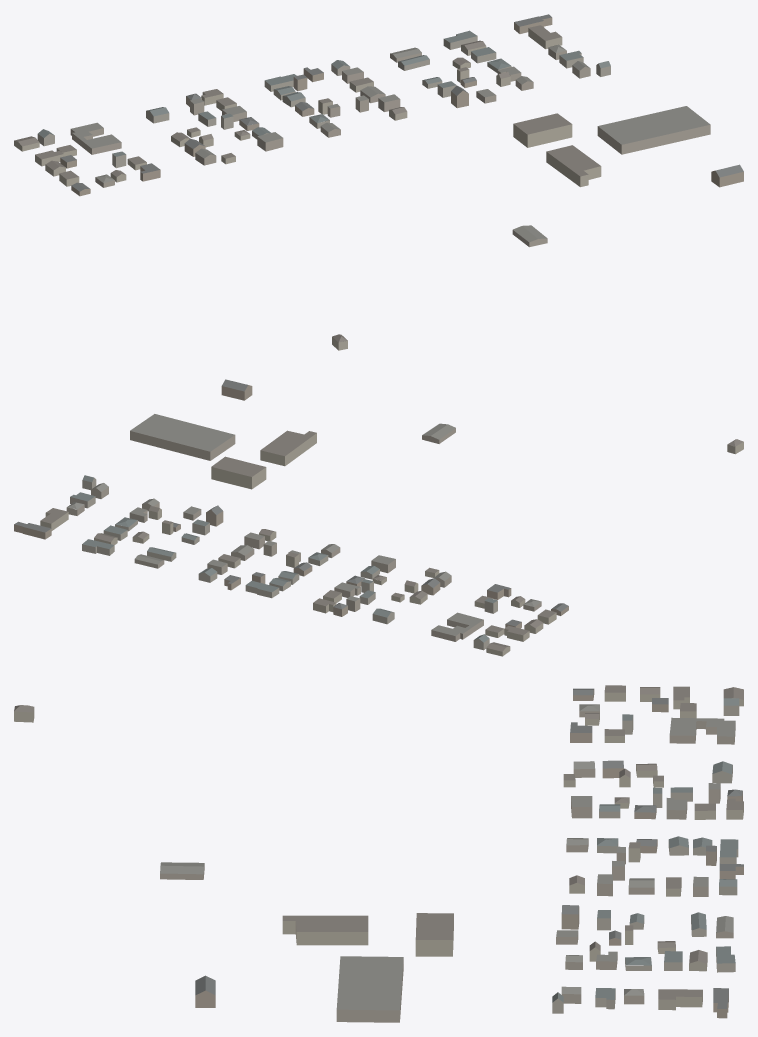
File: da4d03b99850-chunk-1204_11839.glb
3 views of the same model, one above another, from view 1: azimuth 30°, elevation 25°; view 2: azimuth 150°, elevation 25°; view 3: azimuth 270°, elevation 25° (orthographic). The views are drawn at different scales.
Visible parts, largest first — view 1: building_20128, building_161194, building_86215, building_92610, building_16841; view 2: building_20128, building_86215, building_161194, building_92610, building_16841; view 3: building_20128, building_86215, building_161194, building_92610, building_165781, building_108459, building_16841.
Part boxes in pixels (<box>): building_20128: <box>597,106,710,154</box>; building_161194: <box>513,113,572,147</box>; building_86215: <box>546,145,601,187</box>; building_92610: <box>70,122,121,154</box>; building_16841: <box>711,164,743,187</box>; building_20128: <box>130,414,235,460</box>; building_86215: <box>260,430,316,466</box>; building_161194: <box>211,456,266,489</box>; building_92610: <box>431,612,483,641</box>; building_16841: <box>221,379,252,400</box>; building_20128: <box>336,956,403,1022</box>; building_86215: <box>282,915,368,945</box>; building_161194: <box>415,913,453,956</box>; building_92610: <box>669,717,735,744</box>; building_165781: <box>658,989,702,1010</box>; building_108459: <box>160,862,204,879</box>; building_16841: <box>195,975,215,1007</box>.
Bounding box in the file's own units: 376 × 11.1 × 353.
